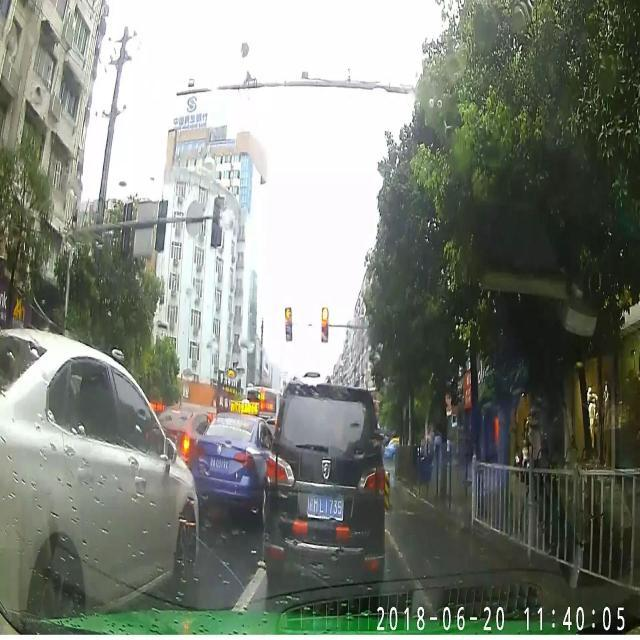car: (0, 326, 199, 616), (264, 380, 387, 609), (192, 410, 276, 514), (150, 399, 224, 490)
